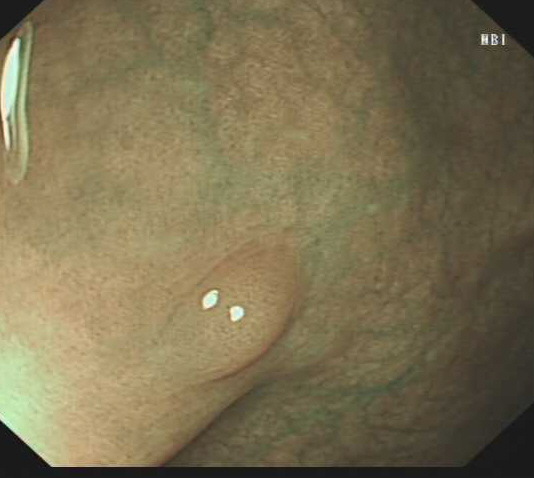others: (163, 240, 299, 387)
